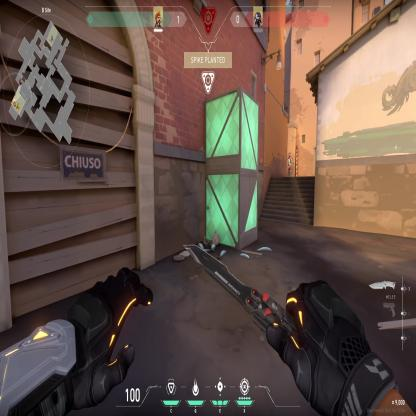enemy: (287, 152, 292, 176)
